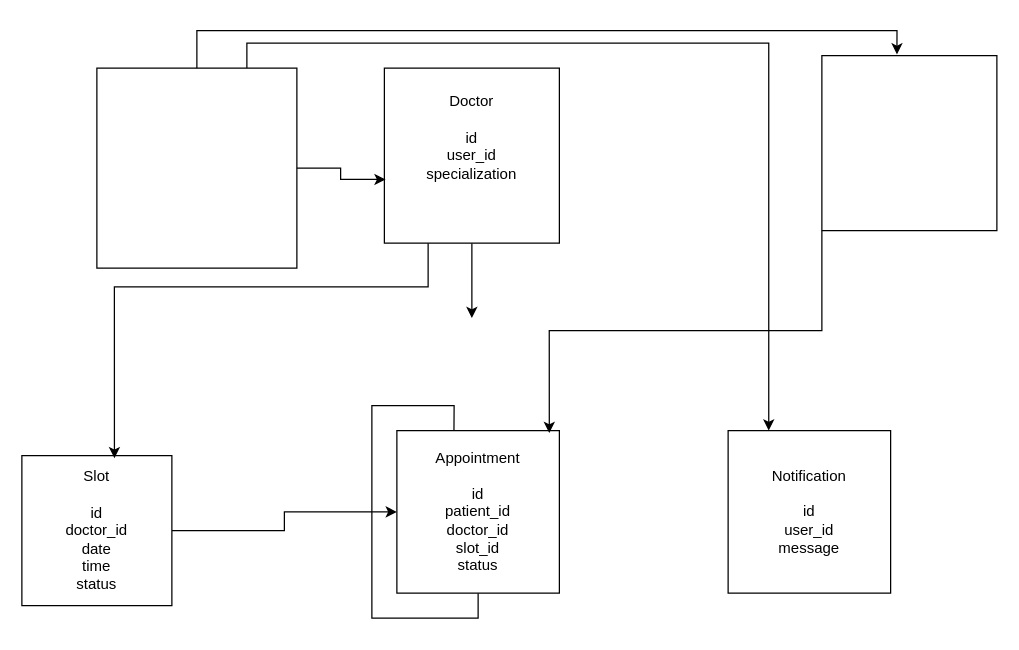
Some shapes in this 1019 by 650 pixel diagram are drawn without their labels. Here are the shapes that lost their labels. From the top down, the centre of each, then its label:
(909,142): Patient id user_id age
(196,167): User id name email password role
